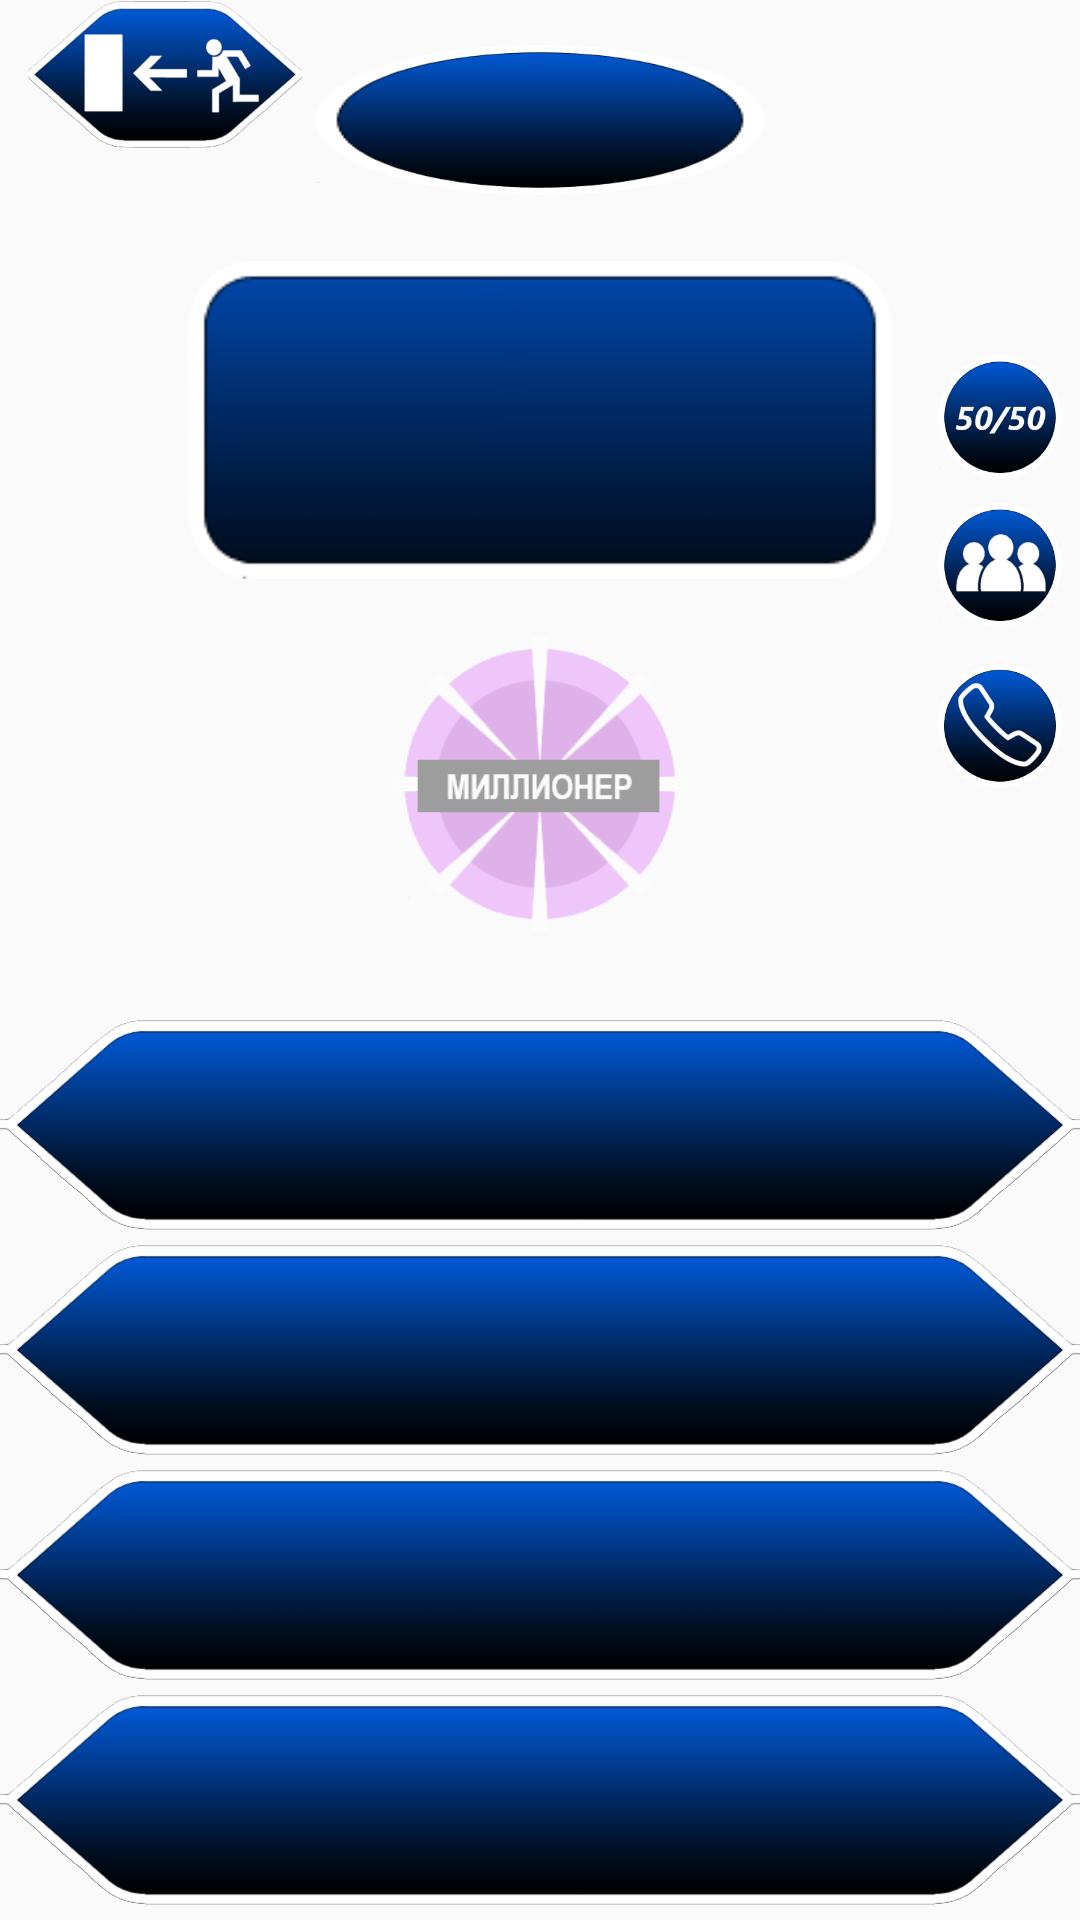

Named icons in this screenshot (1080px×1920px) and their centers, (x=x, y=y):
knopka pomosh: (x=1000, y=565)
knopka zvonok: (x=1000, y=726)
vihod: (x=165, y=74)
